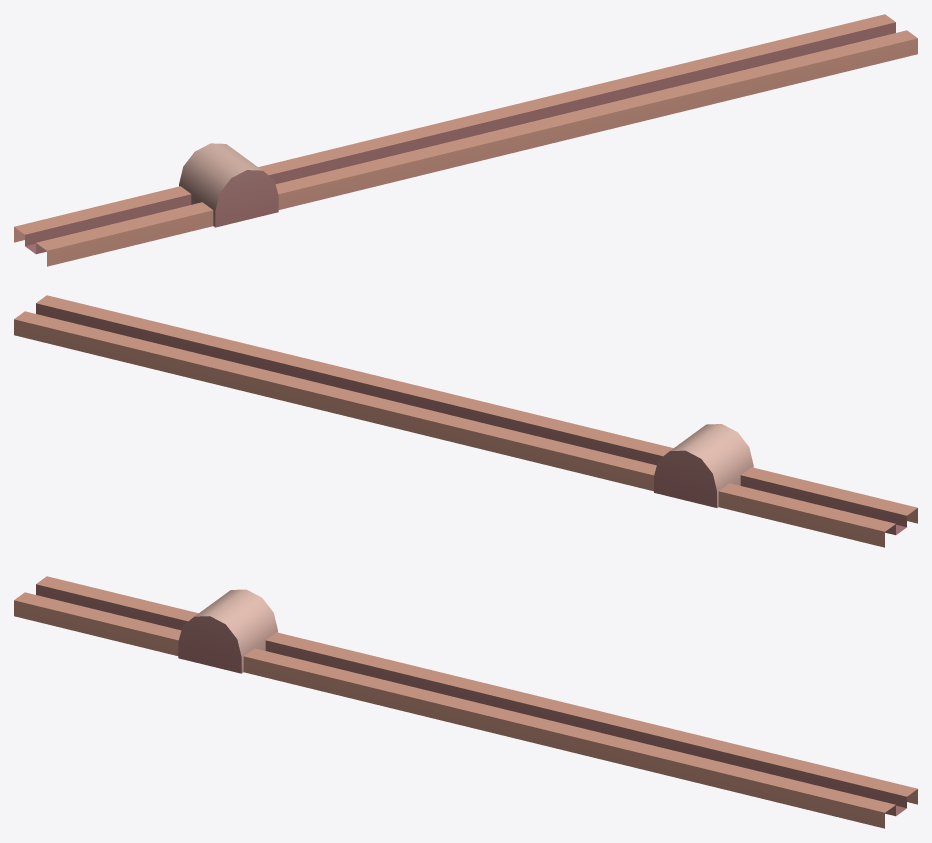
Rendered from Saw.fbx.
The picture shows the model from 3 angles, top to bottom: view 1: azimuth 30°, elevation 25°; view 2: azimuth 150°, elevation 25°; view 3: azimuth 330°, elevation 25°; orthographic projection.
Visible parts, largest first — view 1: Saw_Rail, Saw_Carriage; view 2: Saw_Rail, Saw_Carriage; view 3: Saw_Rail, Saw_Carriage.
Boxes of the visible parts, x1=… form: Saw_Rail: x1=14, y1=14, x2=917, y2=266; Saw_Carriage: x1=179, y1=143, x2=278, y2=227; Saw_Rail: x1=14, y1=295, x2=917, y2=547; Saw_Carriage: x1=654, y1=424, x2=753, y2=507; Saw_Rail: x1=14, y1=576, x2=917, y2=828; Saw_Carriage: x1=178, y1=589, x2=277, y2=673.
Size of the model in its own units: 335 by 18.36 by 24.24.
